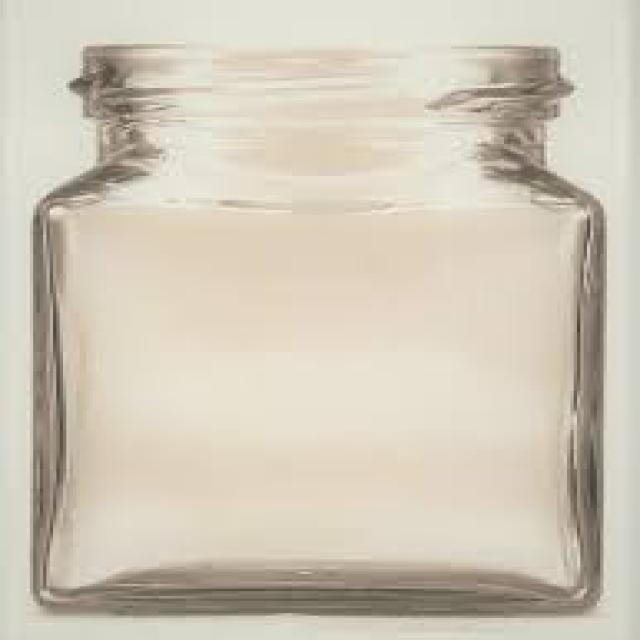glass: (27, 44, 600, 611)
